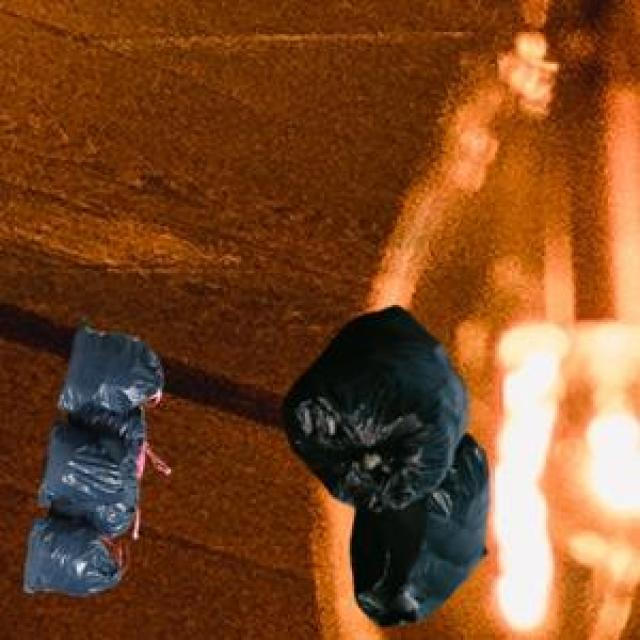waste: (284, 306, 486, 623), (24, 326, 164, 596)
